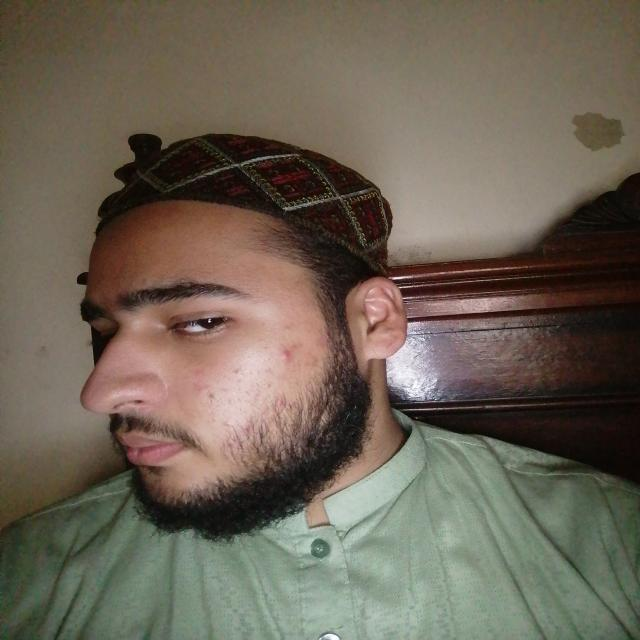acne: (220, 364, 254, 382), (278, 344, 295, 362), (316, 328, 328, 350), (270, 398, 286, 410), (194, 384, 212, 393), (243, 420, 256, 432), (194, 366, 204, 376)
